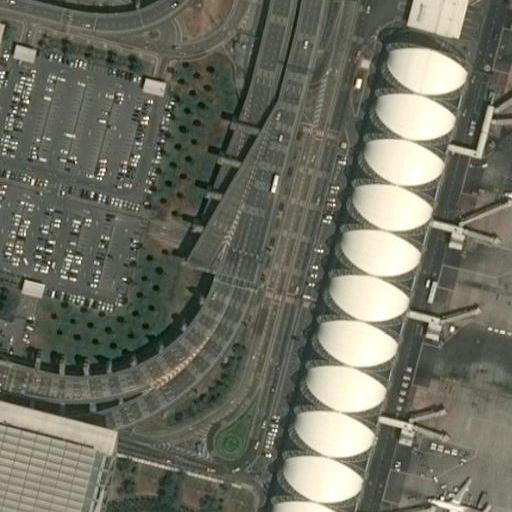Aircraft: (429, 476, 489, 512)
